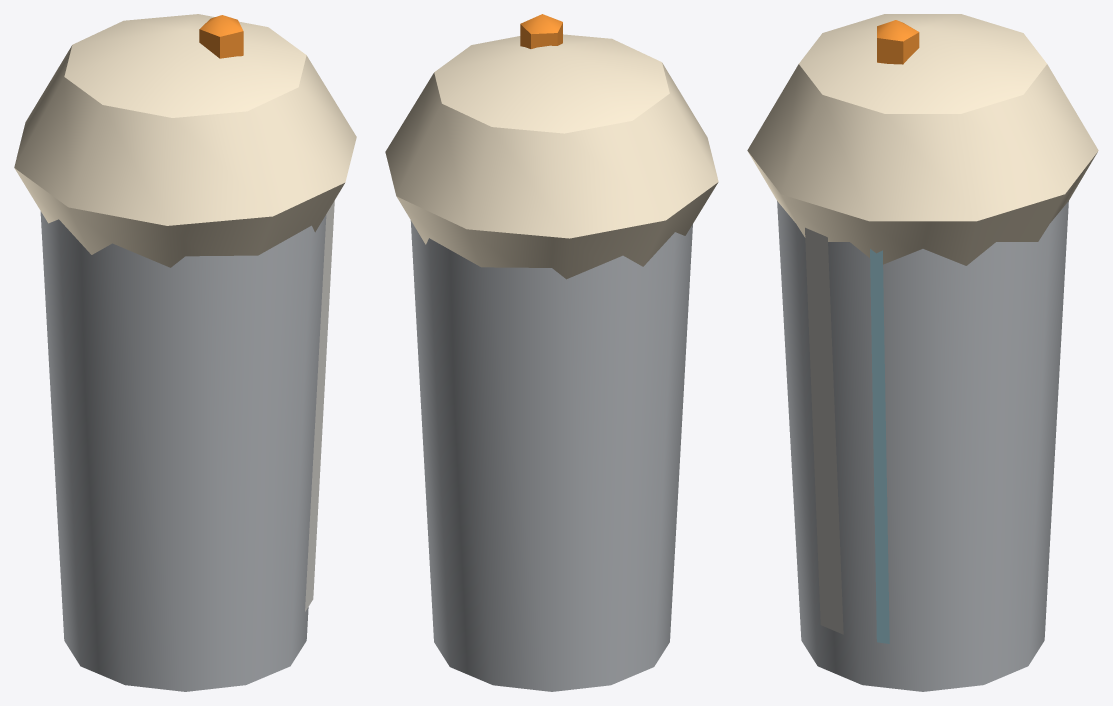
Rendered from prop_patiala_glass.glb.
The picture shows the model from 3 angles, left to right: view 1: azimuth 30°, elevation 25°; view 2: azimuth 150°, elevation 25°; view 3: azimuth 270°, elevation 25°; orthographic projection. The views are drawn at different scales.
Visible parts, largest first — view 1: prop_patiala_glass; view 2: prop_patiala_glass; view 3: prop_patiala_glass.
Part boxes in pixels (bbox=[...]): prop_patiala_glass: bbox=[14, 14, 356, 691]; prop_patiala_glass: bbox=[385, 14, 718, 691]; prop_patiala_glass: bbox=[747, 14, 1098, 691].
Bounding box in the file's own units: 0.1236 × 0.258 × 0.13.
1 material, 1 textured.
